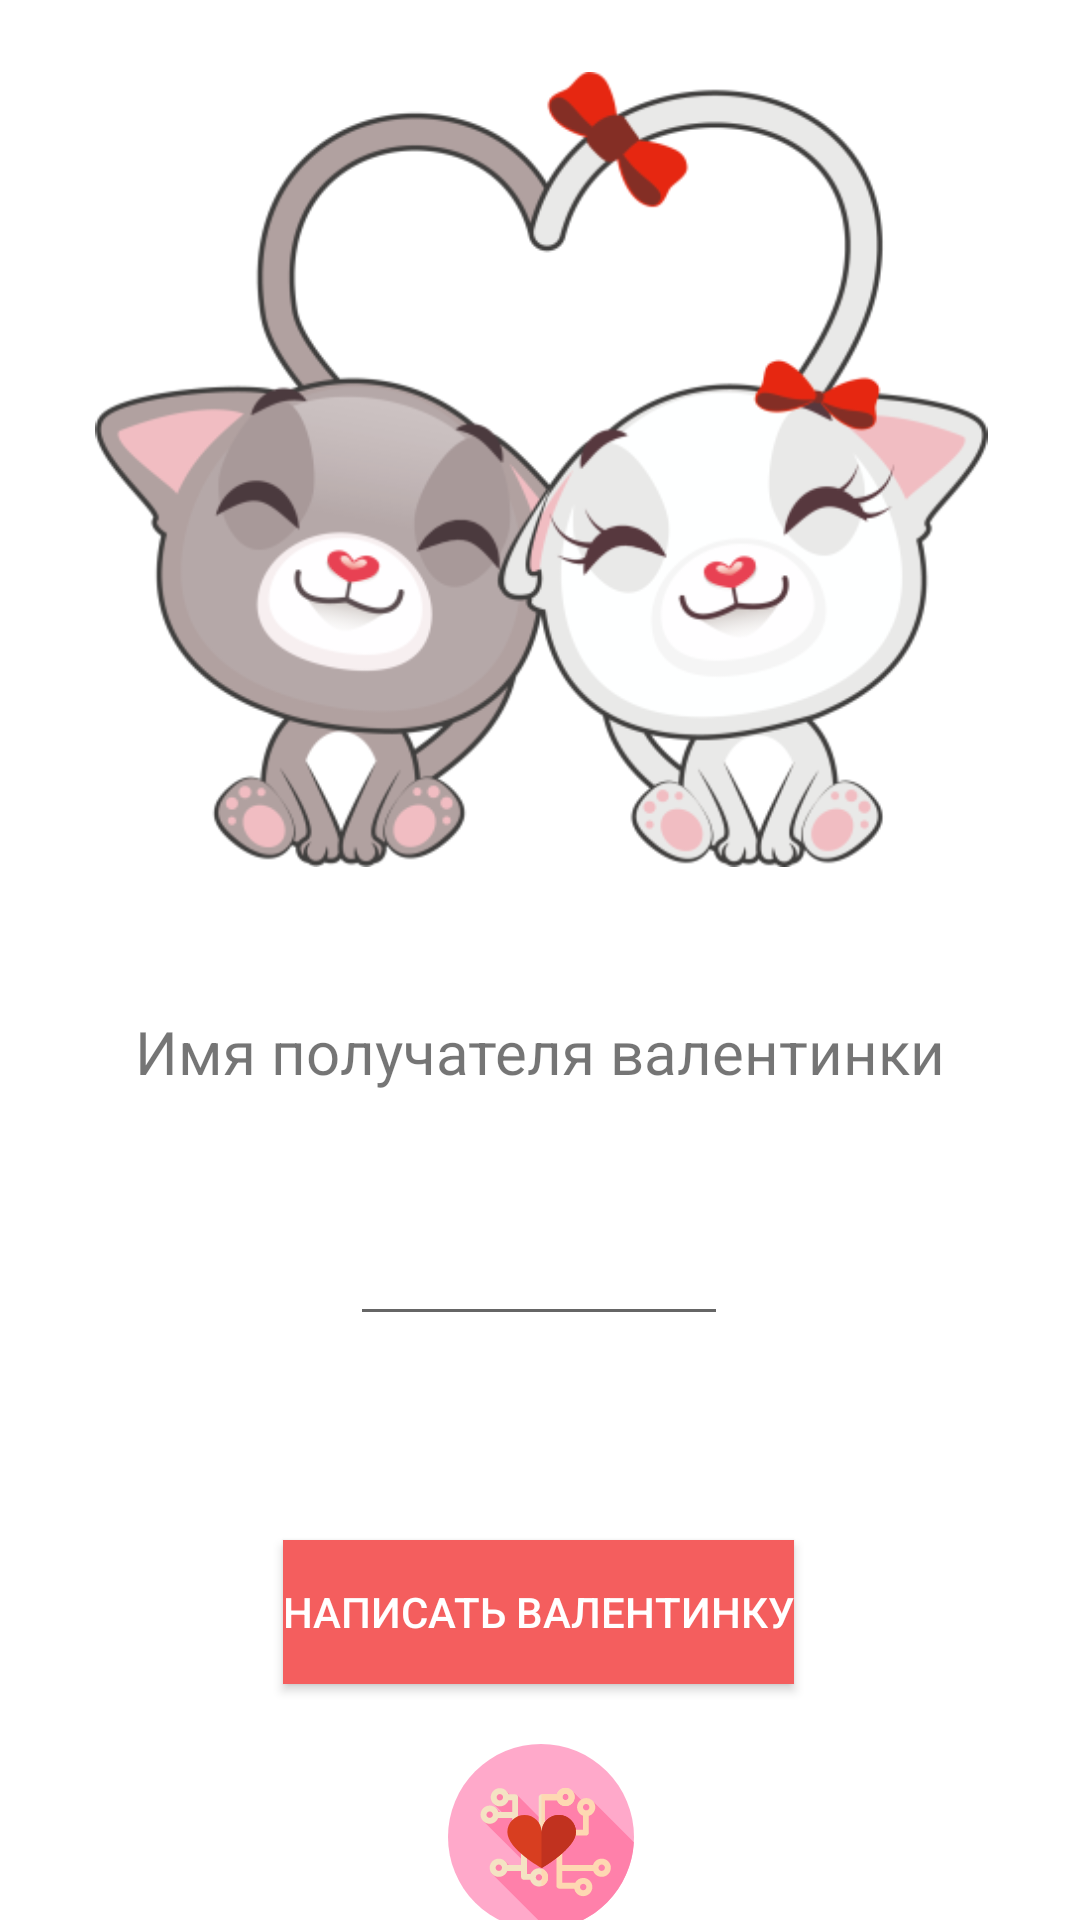

Where icons sit on this 1080 × 1920 app screen, as (x1, y1, x2, y2):
heart: (448, 1744, 634, 1920)
